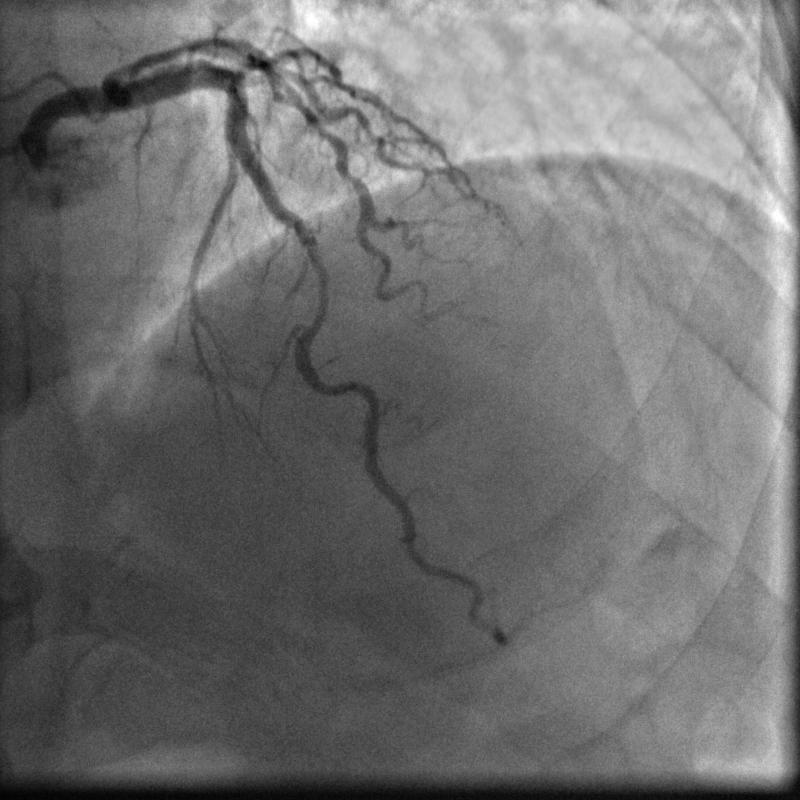Stenosis: (298, 236, 330, 334)
